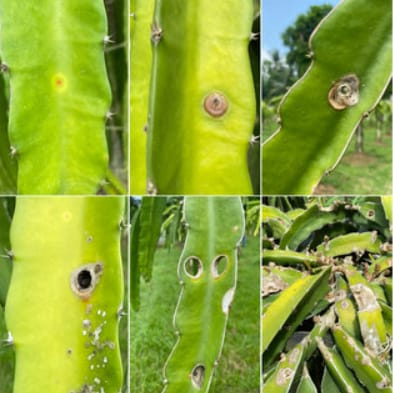stemcanker: (61, 313, 107, 383), (343, 328, 392, 386), (61, 259, 106, 303), (327, 74, 363, 113), (351, 282, 383, 313), (202, 88, 231, 119), (179, 251, 206, 282), (185, 361, 210, 393), (47, 69, 76, 96), (211, 251, 234, 282), (218, 284, 238, 316), (335, 295, 357, 317)
